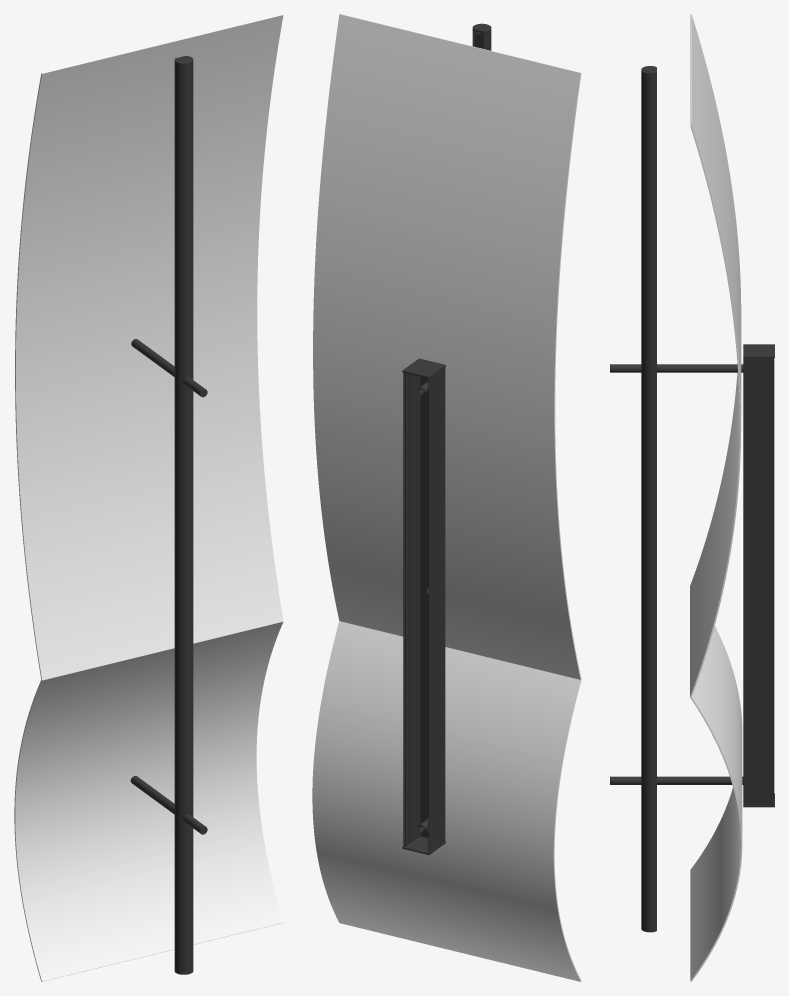
The model's file is ArandelaGrandePampa.glb.
The picture shows the model from 3 angles, left to right: view 1: azimuth 30°, elevation 25°; view 2: azimuth 150°, elevation 25°; view 3: azimuth 270°, elevation 25°; orthographic projection. The views are drawn at different scales.
Visible parts, largest first — view 1: Geom3D, Geom3D_brep_3_brep_111; view 2: Geom3D, Geom3D_ALCS0036_ALCS369; view 3: Geom3D, Geom3D_ALCS0036_ALCS369, Geom3D_brep_3_brep_111, Geom3D_Corte-ex30544_Corte-ex451301, Geom3D_Corte-ex148066_Corte-ex287517, Geom3D_Ressalto_Ressalto838899.
Part boxes in pixels (x1,y1,x2,y2): Geom3D: (14,14,283,981); Geom3D_brep_3_brep_111: (174,62,193,973); Geom3D: (312,14,581,981); Geom3D_ALCS0036_ALCS369: (403,367,445,853); Geom3D: (690,14,742,981); Geom3D_ALCS0036_ALCS369: (743,358,774,805); Geom3D_brep_3_brep_111: (641,72,656,930); Geom3D_Corte-ex30544_Corte-ex451301: (657,364,743,372); Geom3D_Corte-ex148066_Corte-ex287517: (657,776,743,784); Geom3D_Ressalto_Ressalto838899: (743,344,774,357).
Size of the model in its own units: 0.25 by 0.9017 by 0.1569.
2 materials, 2 textured.
